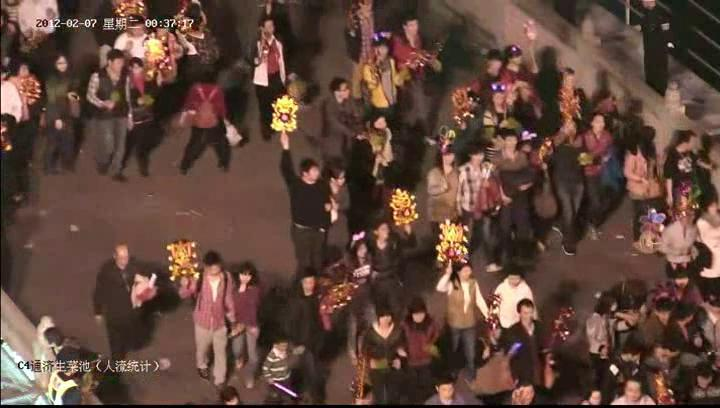person: (174, 247, 234, 391), (94, 242, 160, 366), (542, 112, 592, 259), (179, 60, 240, 180), (453, 140, 502, 273), (282, 267, 329, 405), (500, 297, 559, 405), (88, 47, 132, 187), (396, 13, 441, 149), (282, 157, 335, 271), (439, 260, 487, 385), (224, 260, 269, 390), (622, 122, 665, 255), (496, 127, 537, 264), (39, 50, 83, 177), (661, 127, 720, 218), (578, 112, 617, 245), (399, 296, 446, 405), (425, 129, 467, 250), (121, 55, 160, 181), (359, 305, 407, 406), (249, 14, 287, 140), (360, 30, 413, 115), (585, 291, 626, 399), (343, 231, 375, 366), (370, 220, 419, 306), (355, 111, 397, 211), (319, 76, 363, 164), (323, 160, 355, 262), (263, 336, 297, 407), (609, 373, 660, 404), (495, 263, 537, 299), (422, 376, 468, 407)
